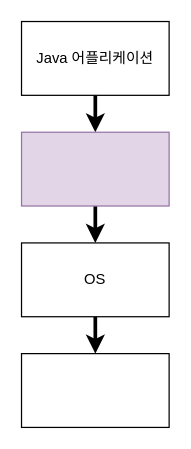
Image size: 191x449. Some labels were removed from this diagram. Here are the shapes that lost their labels. From the top down, the centre of each, then its label:
At (94,168): "JVM".
At (94,389): "HW".
